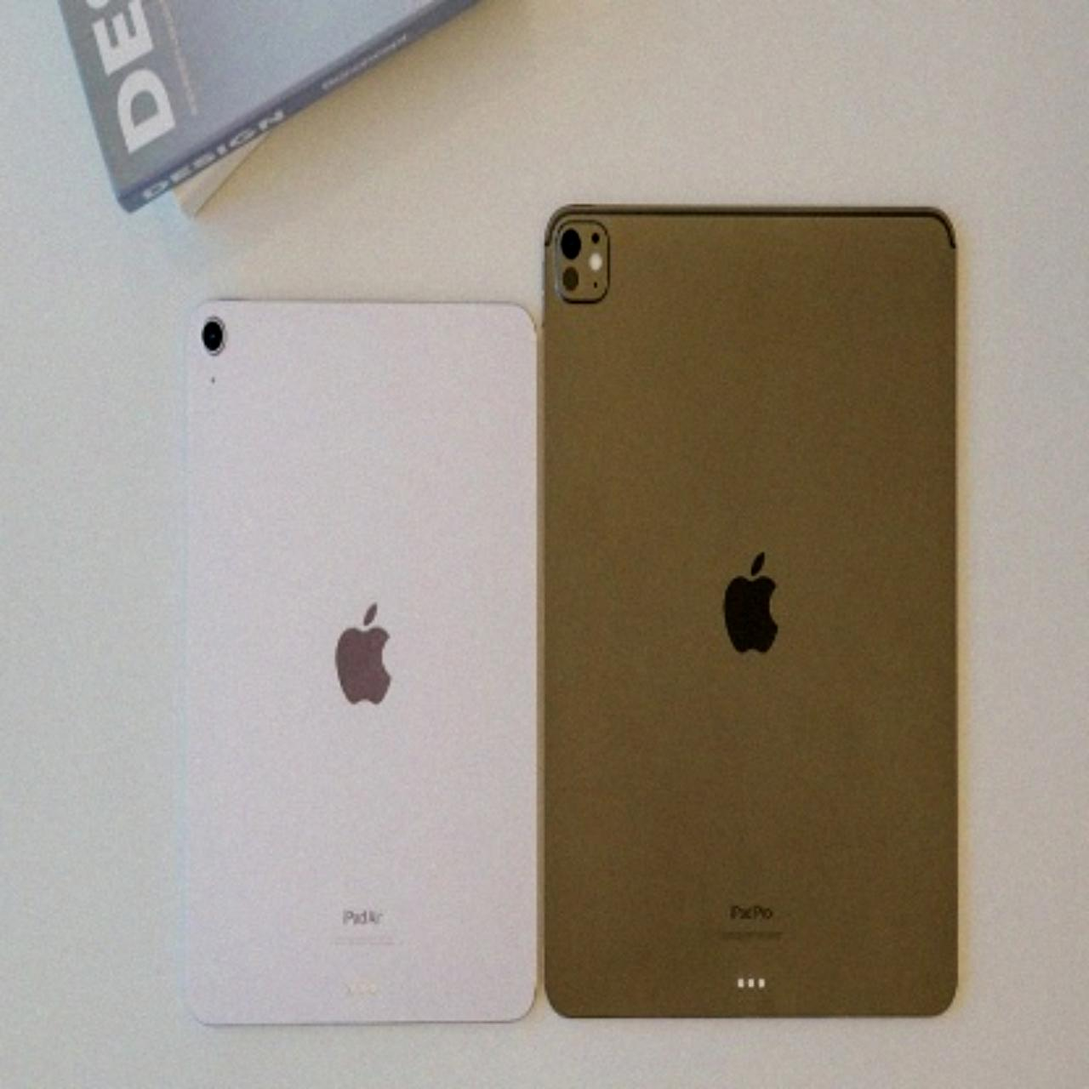Tablet_PC: (537, 194, 966, 1031), (181, 285, 544, 1039)
